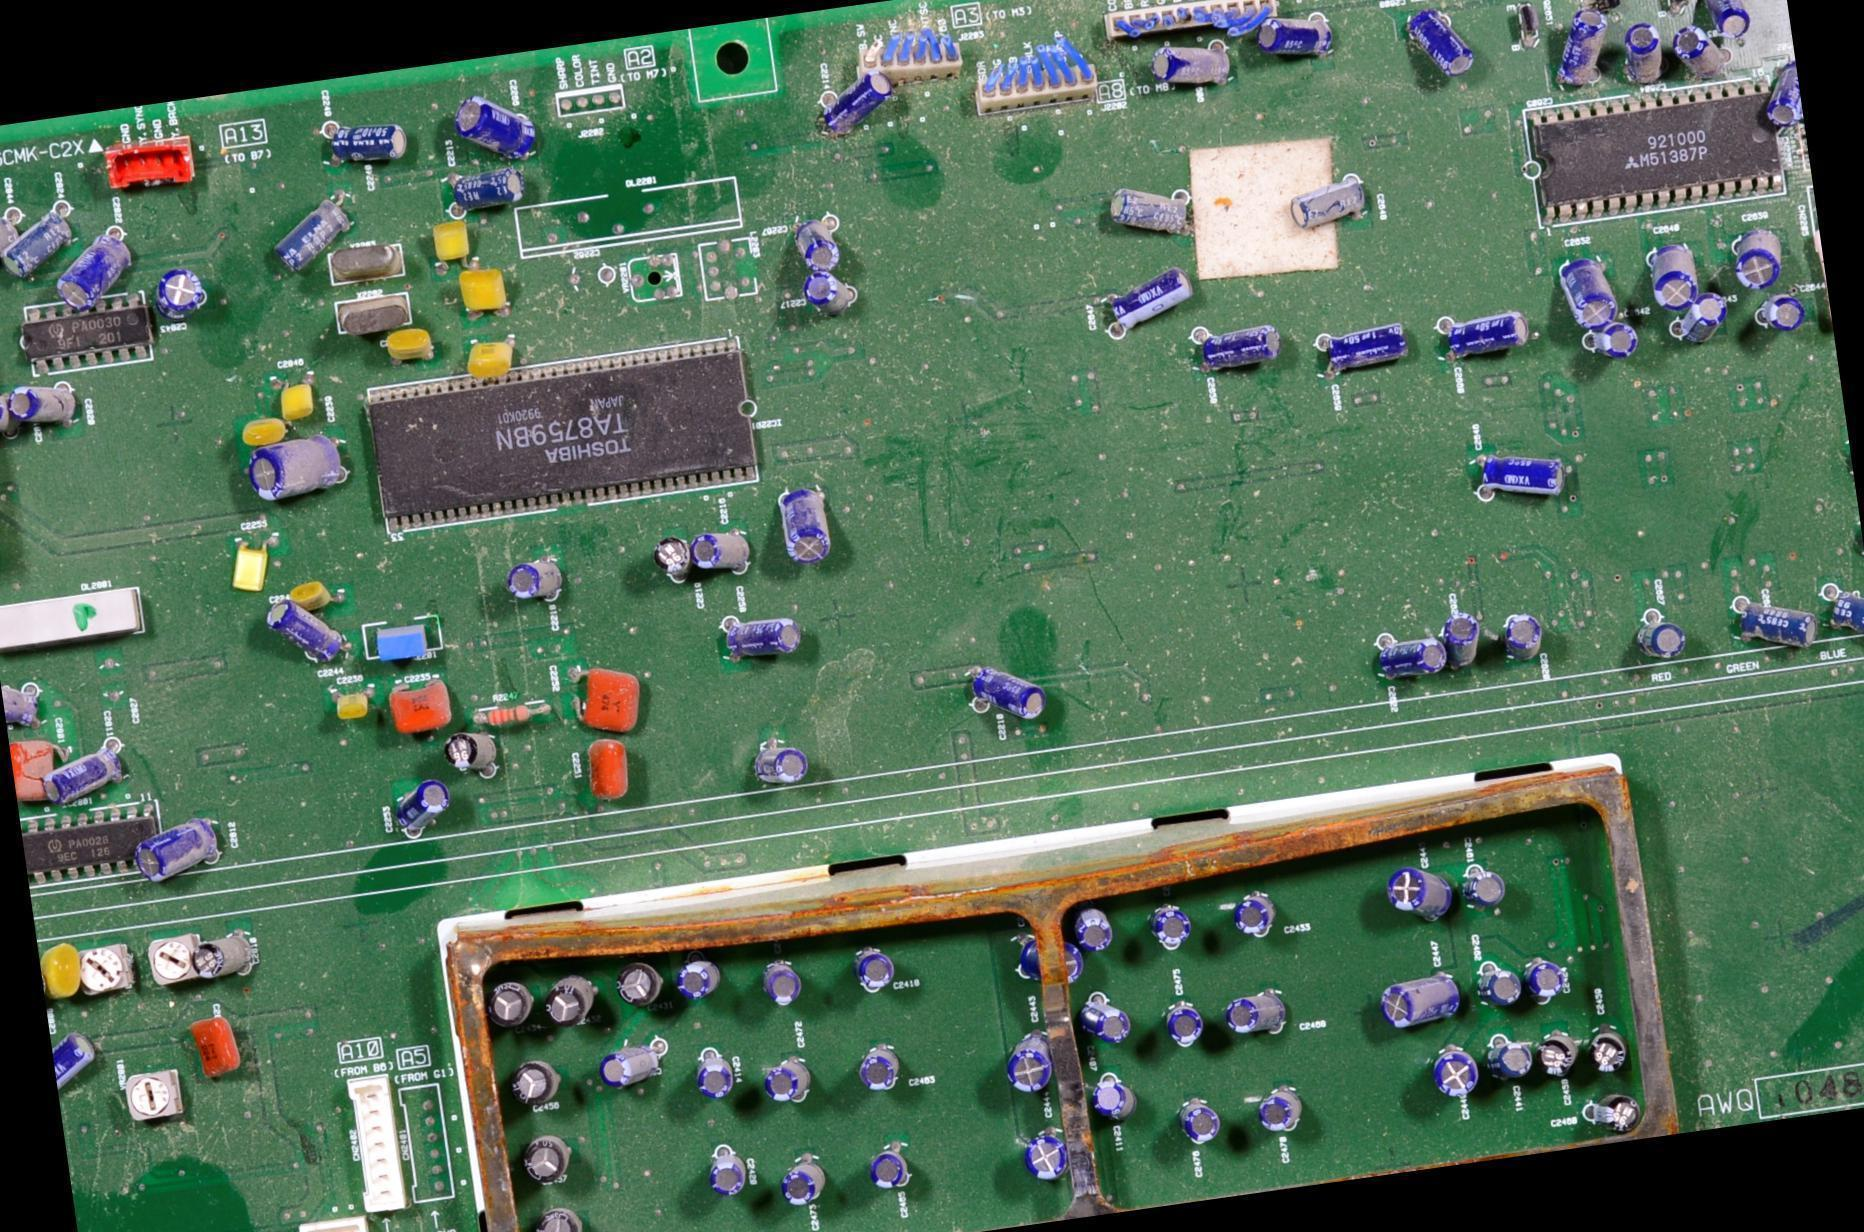Capacitor: (949, 647, 1056, 737), (1456, 430, 1569, 513), (1104, 169, 1213, 252), (1083, 267, 1195, 335), (773, 475, 847, 578), (1301, 322, 1420, 384), (248, 434, 342, 507), (450, 90, 539, 167), (1735, 590, 1816, 674), (1185, 313, 1287, 378), (1639, 236, 1717, 321), (857, 1137, 942, 1214), (45, 741, 149, 805), (1403, 0, 1475, 84), (1546, 0, 1611, 92), (1431, 302, 1523, 365), (268, 598, 340, 676), (139, 816, 226, 880), (1544, 239, 1611, 321), (1168, 1093, 1241, 1167), (567, 655, 630, 739), (1281, 174, 1371, 234), (815, 73, 894, 140), (829, 946, 908, 1012), (1376, 966, 1460, 1029), (277, 200, 350, 270), (1007, 929, 1086, 993), (65, 229, 132, 302), (317, 117, 407, 169), (384, 672, 457, 735), (8, 208, 77, 273), (184, 1008, 248, 1080), (385, 321, 458, 382), (1613, 17, 1676, 86), (1363, 628, 1444, 684), (741, 729, 807, 795), (1021, 1125, 1088, 1191), (1382, 856, 1446, 924), (1478, 1031, 1546, 1095), (772, 1155, 844, 1215), (1000, 1031, 1063, 1098), (734, 618, 816, 668), (780, 209, 838, 279), (1147, 38, 1228, 90), (584, 735, 640, 809), (1431, 1042, 1494, 1107), (224, 527, 284, 594), (598, 1040, 670, 1094), (804, 276, 867, 338), (1489, 600, 1548, 665), (1582, 307, 1636, 378), (500, 552, 567, 609), (9, 735, 62, 809), (1063, 905, 1125, 965), (1140, 897, 1200, 959), (1436, 611, 1496, 674), (1635, 611, 1687, 680), (1660, 284, 1722, 344), (1248, 1080, 1306, 1143), (690, 528, 754, 585), (50, 1031, 103, 1098), (688, 1048, 741, 1114), (147, 266, 202, 329), (1221, 984, 1279, 1044), (1586, 1084, 1646, 1141), (1519, 953, 1575, 1013), (461, 331, 529, 381), (1257, 8, 1324, 58), (481, 978, 541, 1032), (1665, 14, 1717, 75), (646, 526, 709, 578), (449, 166, 518, 213), (1755, 279, 1809, 338), (1454, 857, 1506, 917), (1738, 234, 1785, 299), (1761, 55, 1803, 128), (1081, 994, 1135, 1050), (1823, 584, 1863, 662), (1578, 1020, 1628, 1082), (455, 263, 510, 316), (610, 955, 668, 1007), (1469, 961, 1521, 1019), (37, 937, 86, 995), (392, 781, 451, 830), (192, 933, 250, 983), (12, 375, 71, 423), (518, 1130, 572, 1182), (504, 1058, 557, 1109), (326, 682, 378, 734), (442, 730, 495, 783), (0, 666, 45, 724), (537, 976, 598, 1020), (1087, 1072, 1134, 1127), (754, 955, 804, 1007), (673, 957, 726, 1005), (429, 215, 474, 268), (1230, 887, 1279, 936), (701, 1153, 751, 1202), (860, 1044, 903, 1098), (761, 1059, 810, 1106), (1706, 0, 1752, 47), (280, 378, 320, 432), (238, 410, 291, 449), (283, 577, 336, 618), (527, 1201, 588, 1231), (1535, 1026, 1576, 1073), (1158, 1005, 1194, 1042), (0, 385, 16, 440), (0, 214, 15, 271)
Connector: (344, 1069, 411, 1213), (298, 1214, 369, 1231)
IC: (359, 331, 760, 531), (1521, 71, 1795, 231), (19, 799, 163, 891), (19, 291, 160, 375)
Resistor: (478, 698, 561, 732)
Transistor: (1512, 0, 1535, 48), (1580, 0, 1620, 19), (1663, 0, 1695, 17)
